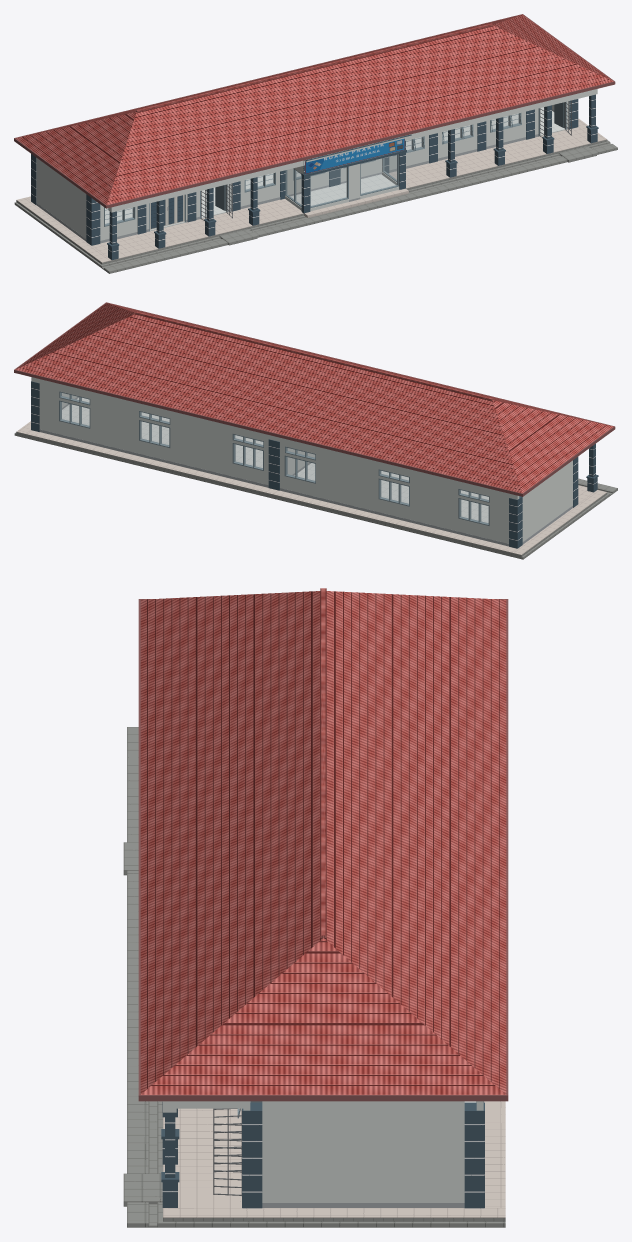
Rendered from gedung_lab_tata_busana.glb.
3 renders of one model, top to bottom at view 1: azimuth 30°, elevation 25°; view 2: azimuth 150°, elevation 25°; view 3: azimuth 270°, elevation 25°, orthographic. The views are drawn at different scales.
Visible parts, largest first — view 1: Atap_Genteng_Merah_Corrugated, Dinding_Abu_Sage_Busana, Teras_Keramik_Krem_Busana, Pilar_Tiang_BiruAbu_GarisPutih, Paving_Dan_Apron_Beton, Kaca_Etalase_Dan_Jendela, Lisplang_Marun_Atap, Kusen_Jendela_BiruAbu_Gelap, Lantai_2_Kelas_Kosong, Papan_Fasade_RuangPraktik_Busana, Plint_Dinding_Abu_Gelap, Pintu_Lipat_4Panel_PutihBiru (+1 smaller); view 2: Atap_Genteng_Merah_Corrugated, Dinding_Abu_Sage_Busana, Teras_Keramik_Krem_Busana, Kaca_Etalase_Dan_Jendela, Lisplang_Marun_Atap, Kusen_Jendela_BiruAbu_Gelap, Paving_Dan_Apron_Beton, Lantai_2_Kelas_Kosong, Pilar_Tiang_BiruAbu_GarisPutih, Plint_Dinding_Abu_Gelap; view 3: Atap_Genteng_Merah_Corrugated, Dinding_Abu_Sage_Busana, Paving_Dan_Apron_Beton, Teras_Keramik_Krem_Busana, Pilar_Tiang_BiruAbu_GarisPutih, Lisplang_Marun_Atap, Pintu_Teralis_Besi_Hitam, Plint_Dinding_Abu_Gelap.
Part boxes in pixels (x1=…): Atap_Genteng_Merah_Corrugated: x1=15, y1=14, x2=613, y2=204; Dinding_Abu_Sage_Busana: x1=36, y1=89, x2=597, y2=240; Teras_Keramik_Krem_Busana: x1=16, y1=118, x2=606, y2=262; Pilar_Tiang_BiruAbu_GarisPutih: x1=31, y1=94, x2=598, y2=260; Paving_Dan_Apron_Beton: x1=14, y1=140, x2=617, y2=273; Kaca_Etalase_Dan_Jendela: x1=105, y1=113, x2=520, y2=224; Lisplang_Marun_Atap: x1=14, y1=14, x2=615, y2=208; Kusen_Jendela_BiruAbu_Gelap: x1=104, y1=101, x2=566, y2=231; Lantai_2_Kelas_Kosong: x1=105, y1=107, x2=565, y2=231; Papan_Fasade_RuangPraktik_Busana: x1=305, y1=138, x2=404, y2=174; Plint_Dinding_Abu_Gelap: x1=36, y1=109, x2=569, y2=243; Pintu_Lipat_4Panel_PutihBiru: x1=150, y1=195, x2=184, y2=229; Atap_Genteng_Merah_Corrugated: x1=15, y1=303, x2=613, y2=493; Dinding_Abu_Sage_Busana: x1=31, y1=377, x2=572, y2=543; Teras_Keramik_Krem_Busana: x1=16, y1=421, x2=606, y2=555; Kaca_Etalase_Dan_Jendela: x1=61, y1=393, x2=488, y2=523; Lisplang_Marun_Atap: x1=14, y1=302, x2=615, y2=496; Kusen_Jendela_BiruAbu_Gelap: x1=59, y1=391, x2=489, y2=525; Paving_Dan_Apron_Beton: x1=14, y1=432, x2=617, y2=559; Lantai_2_Kelas_Kosong: x1=62, y1=397, x2=488, y2=522; Pilar_Tiang_BiruAbu_GarisPutih: x1=31, y1=381, x2=598, y2=548; Plint_Dinding_Abu_Gelap: x1=39, y1=396, x2=572, y2=546; Atap_Genteng_Merah_Corrugated: x1=140, y1=588, x2=506, y2=1094; Dinding_Abu_Sage_Busana: x1=163, y1=1101, x2=483, y2=1202; Paving_Dan_Apron_Beton: x1=123, y1=727, x2=505, y2=1227; Teras_Keramik_Krem_Busana: x1=163, y1=1101, x2=505, y2=1217; Pilar_Tiang_BiruAbu_GarisPutih: x1=161, y1=1101, x2=484, y2=1208; Lisplang_Marun_Atap: x1=138, y1=599, x2=508, y2=1101; Pintu_Teralis_Besi_Hitam: x1=213, y1=1108, x2=241, y2=1195; Plint_Dinding_Abu_Gelap: x1=262, y1=1203, x2=464, y2=1207.
Size of the model in its own units: 29.32 by 5.99 by 9.59.
Materials: 16 (9 with a texture image).
